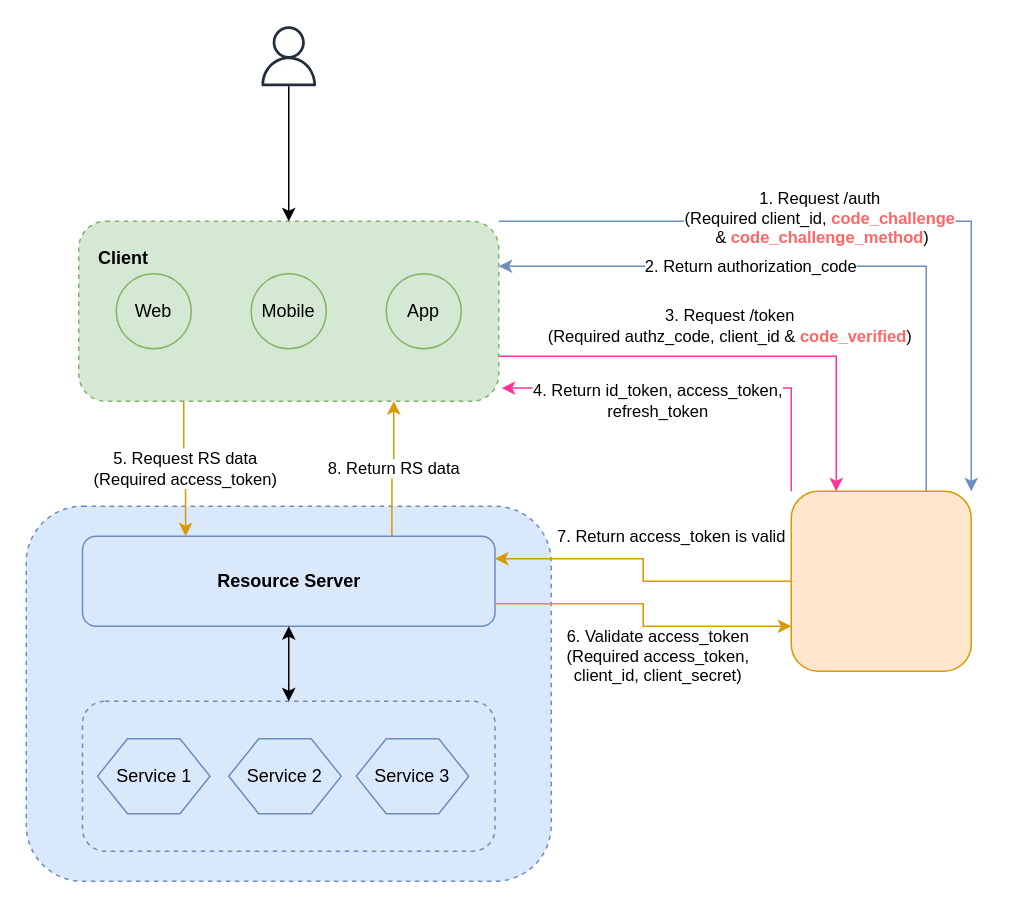
This 1010x908 diagram has some shape labels left out. The box of each missing label's shape, as (x1, y1, x2, y2) in pixels:
NEMO ID ( ID Provider ): (790, 490, 971, 671)
User (Resource Owner): (258, 26, 318, 86)
